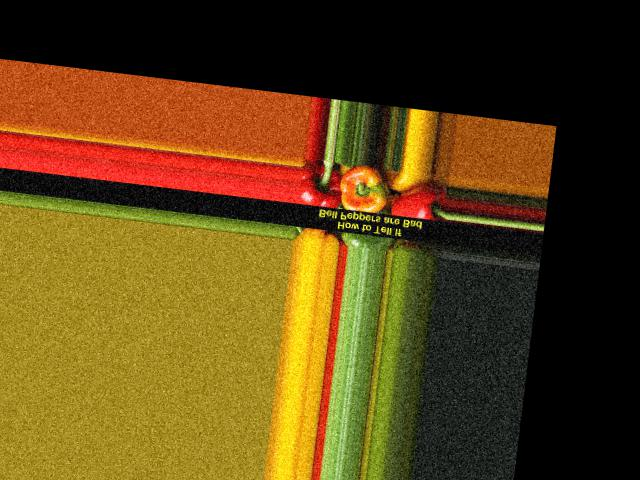bell_pepper: (299, 158, 347, 212)
